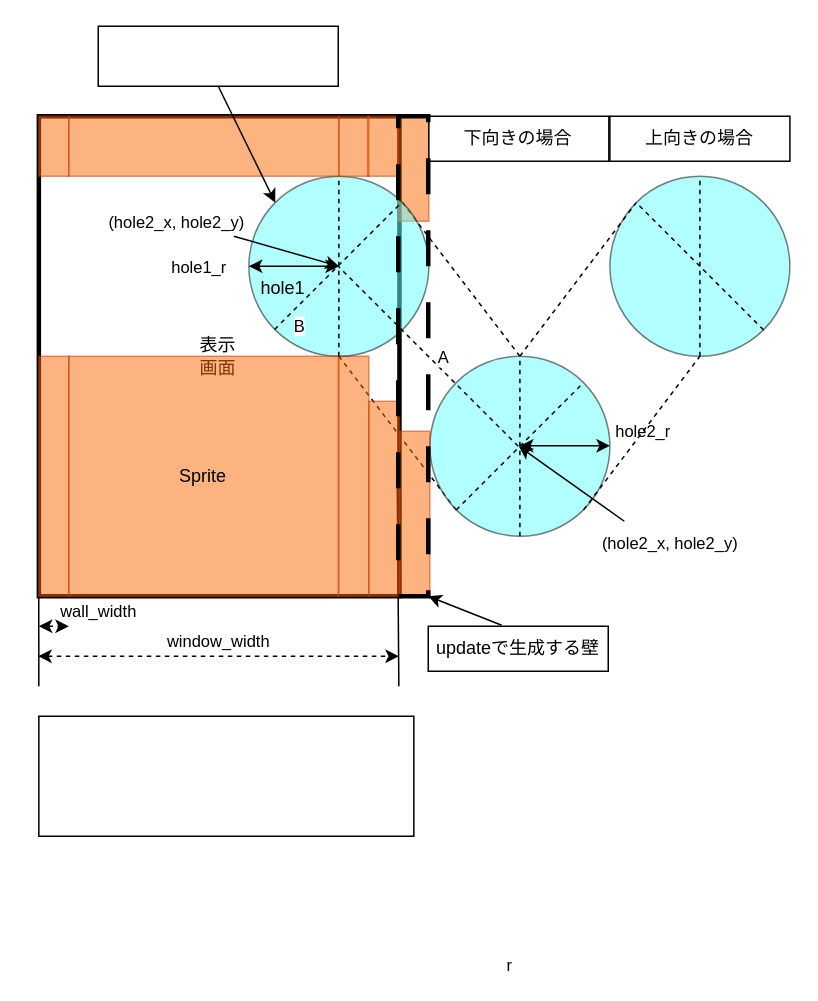
Some shapes in this 818 by 1001 pixel diagram are drawn without their labels. Here are the shapes that lost their labels. From the top down, the centre of each, then its label:
point (217, 55): 右の穴の中心が画面にタッチしたら再生成
point (519, 445): hole2
point (225, 775): slope90 : 線分Aの傾き slope90_angle : 線分Bの角度(線分Aの垂線)
